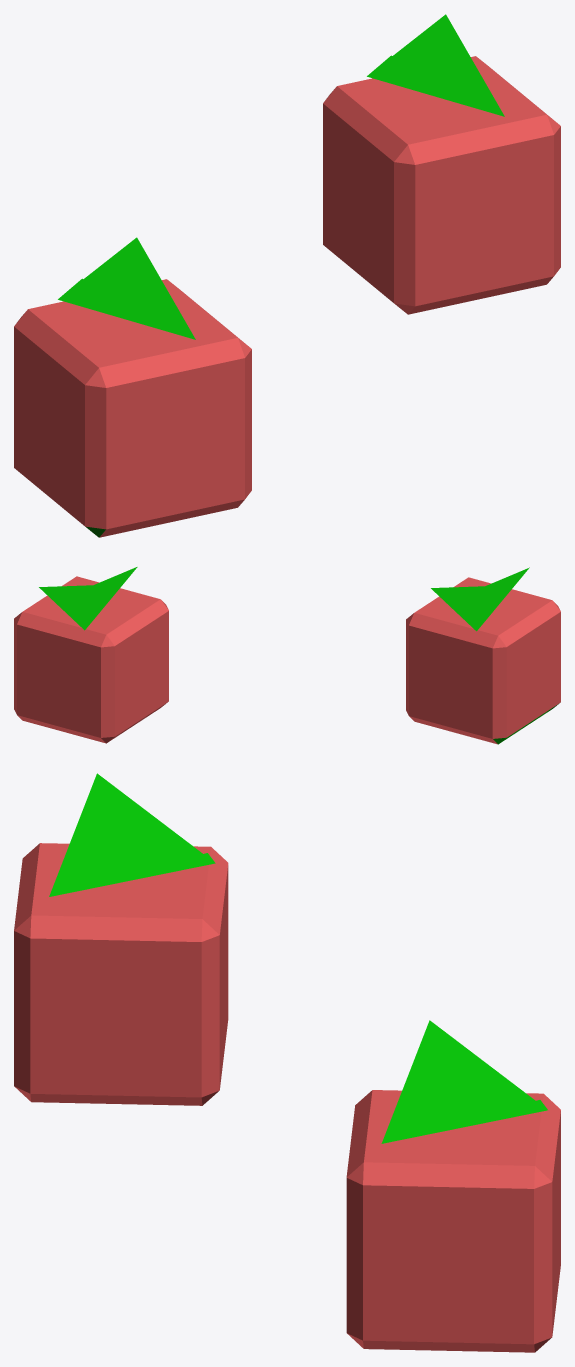
File: FRUIT_IMPERIUS.glb
3 views of the same model, one above another, from view 1: azimuth 30°, elevation 25°; view 2: azimuth 150°, elevation 25°; view 3: azimuth 270°, elevation 25° (orthographic). The views are drawn at different scales.
Parts seen in each view (by area): view 1: Fruit_Imperius; view 2: Fruit_Imperius; view 3: Fruit_Imperius.
Part boxes in pixels (left/top/right/bottom): Fruit_Imperius: left=14, top=14, right=560, bottom=537; Fruit_Imperius: left=14, top=567, right=560, bottom=744; Fruit_Imperius: left=14, top=773, right=560, bottom=1352.
Size of the model in its own units: 2.32 by 0.8401 by 1.59.
1 material, 1 textured.
